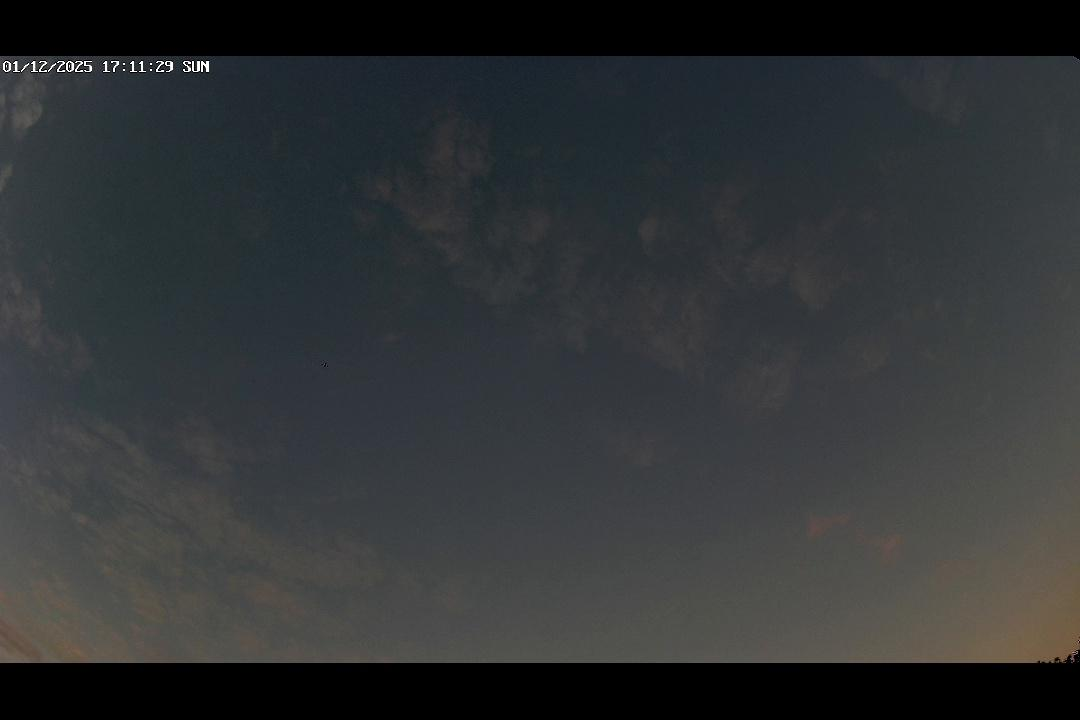WildLife: (316, 358, 337, 374)
